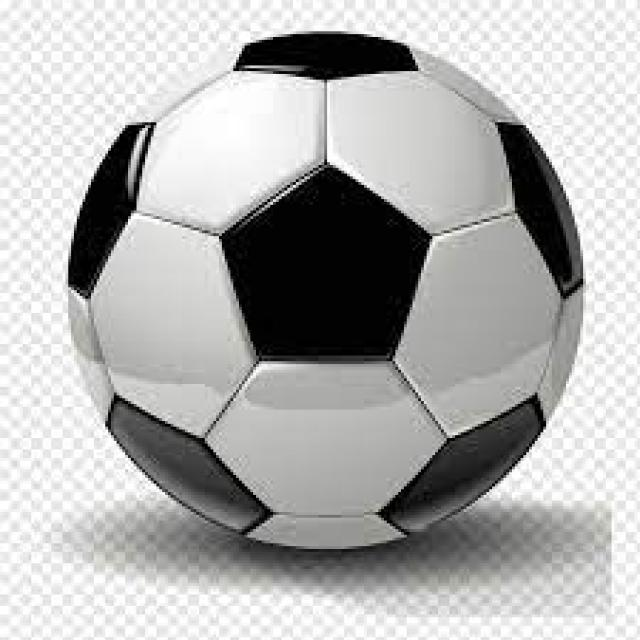ball: (68, 31, 583, 550)
